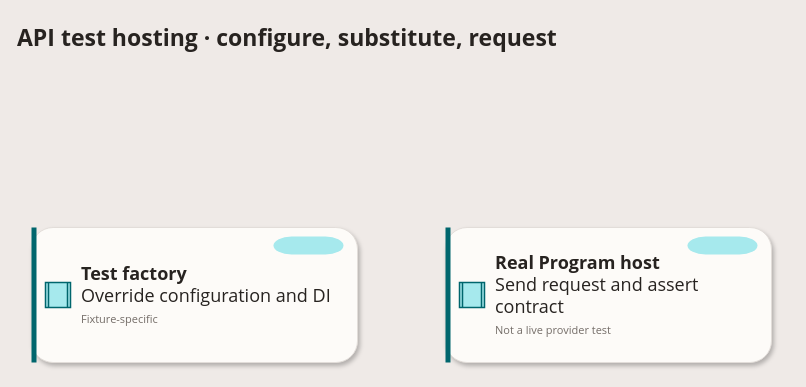
Image size: 806x387. Some labels were removed from this diagram. The centre of each missing label's shape, as x and y in pixels:
"RESULT" goes at point 722,245.
"SCOPE" goes at point 308,245.
